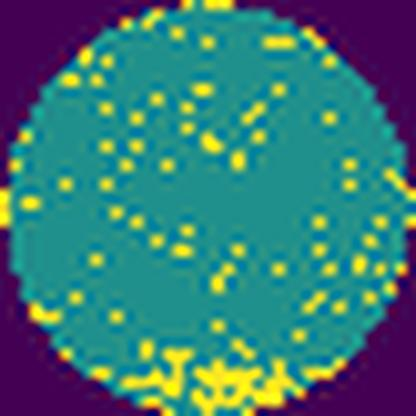Edge-Loc: (189, 355, 306, 415), (110, 344, 193, 405)
